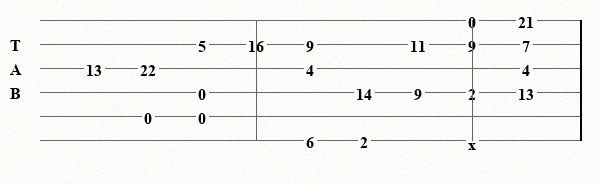0: (144, 109, 156, 124), (198, 85, 210, 100), (198, 109, 210, 124), (468, 13, 480, 28)
11: (410, 37, 430, 52)
13: (86, 61, 106, 76), (518, 85, 538, 100)
14: (356, 85, 376, 100)
16: (248, 37, 268, 52)
2: (360, 133, 372, 148), (468, 85, 480, 100)
21: (518, 13, 538, 28)
22: (140, 61, 160, 76)
4: (306, 61, 318, 76), (522, 61, 534, 76)
5: (198, 37, 210, 52)
6: (306, 133, 318, 148)
7: (522, 37, 534, 52)
9: (306, 37, 318, 52), (414, 85, 426, 100), (468, 37, 480, 52)
x: (468, 135, 480, 146)
